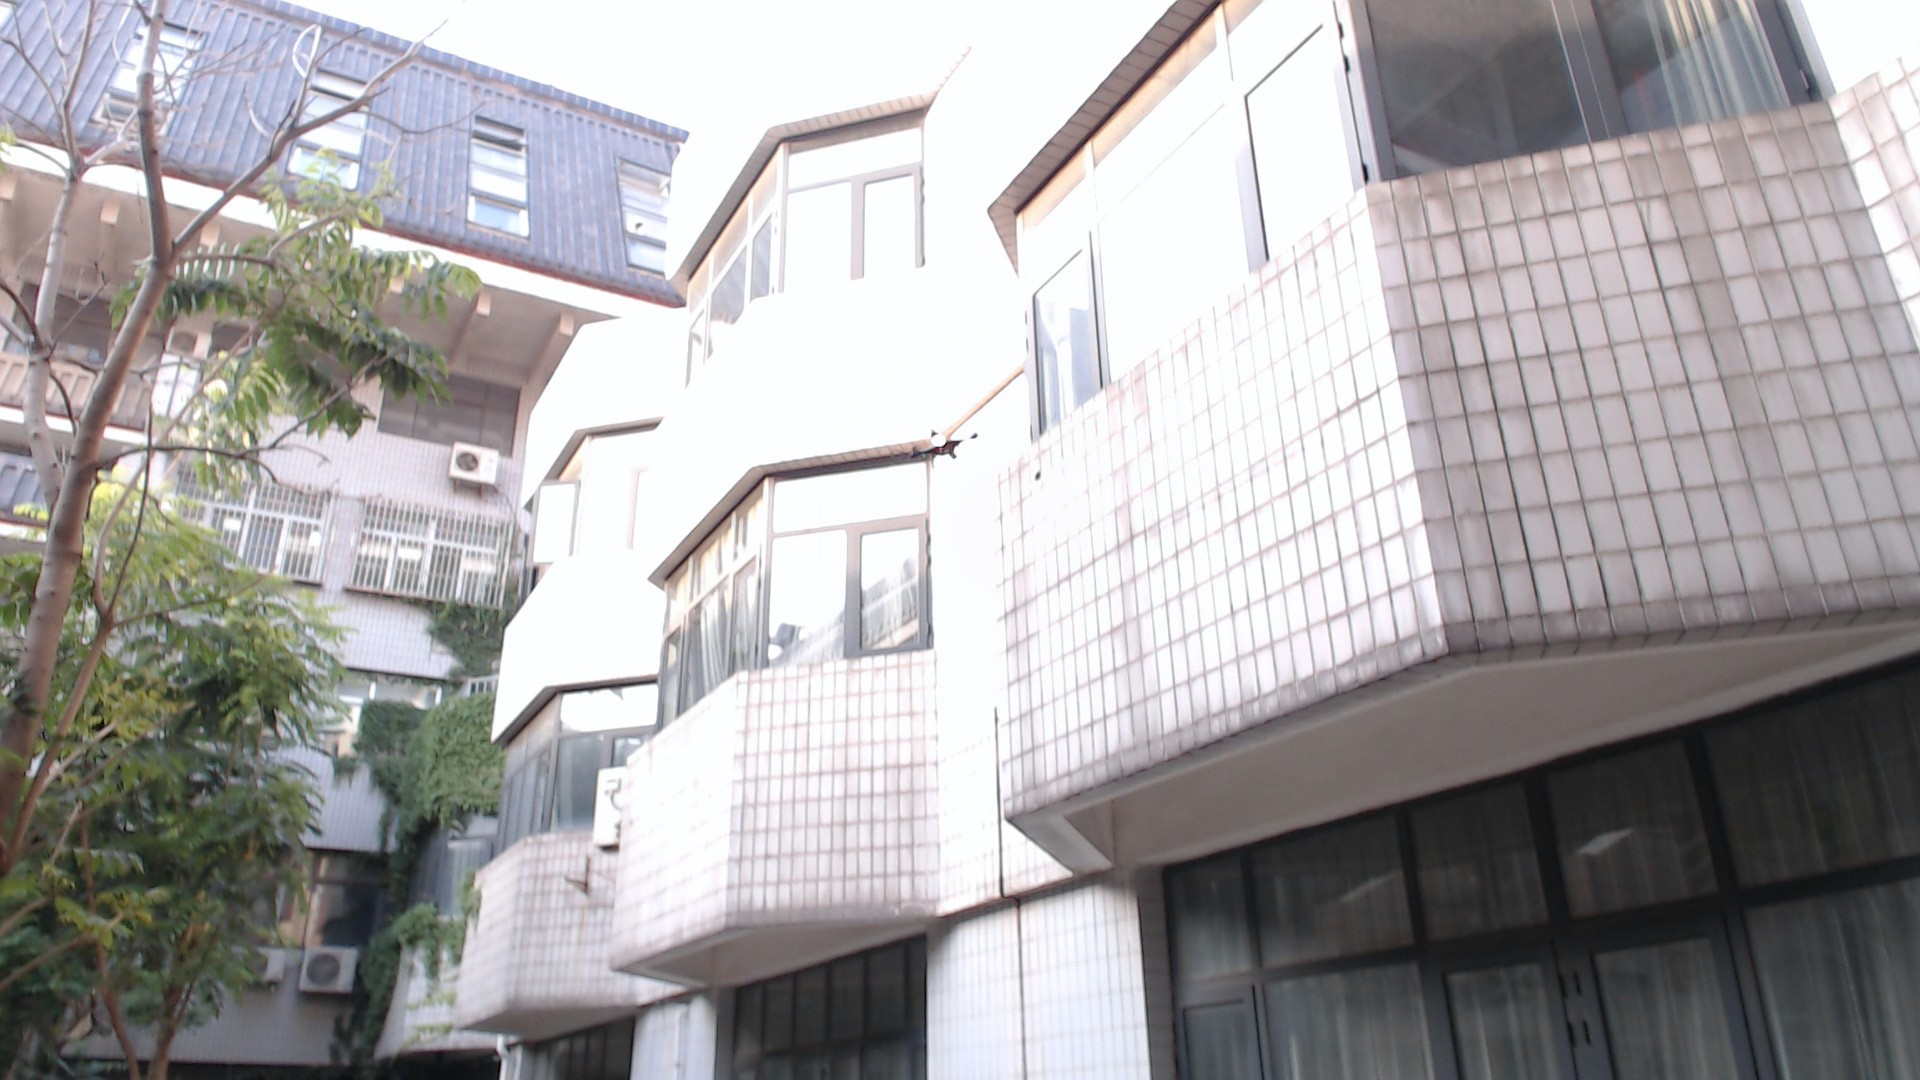drone: (880, 404, 1014, 479)
